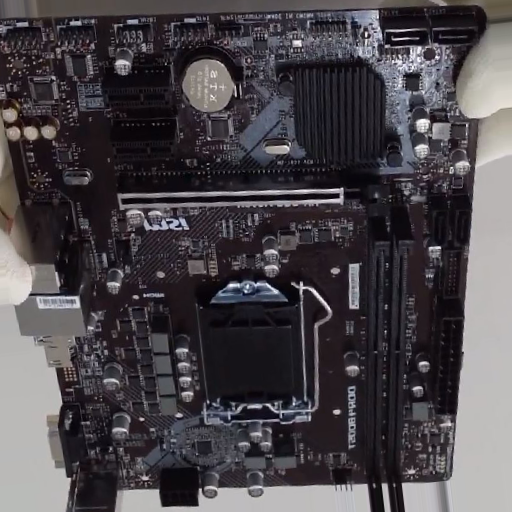CPU: (200, 278, 311, 428)
GPU: (114, 184, 393, 218)
MOTHERBOARD: (1, 8, 488, 489)
RAM: (366, 216, 413, 512)
